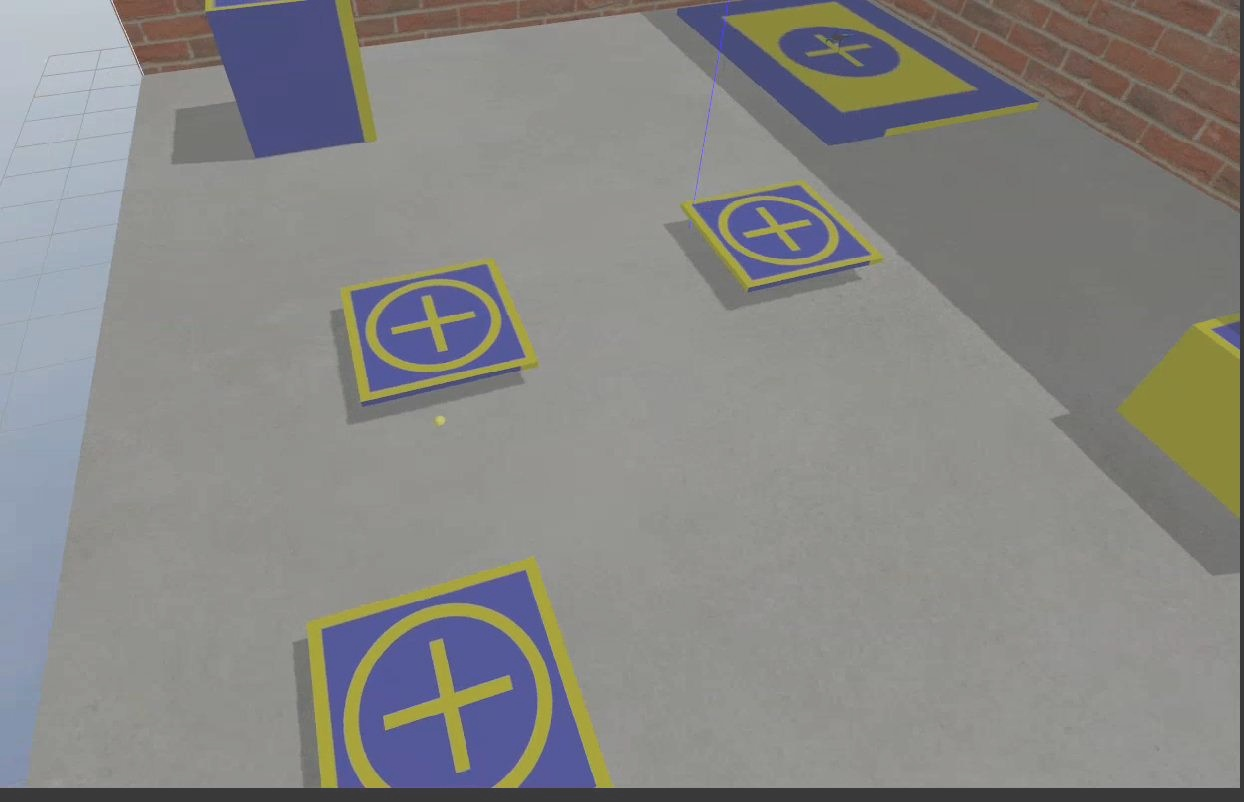large_base: (679, 1, 1039, 148)
small_base: (308, 557, 621, 792), (338, 259, 541, 410), (681, 180, 887, 299)
